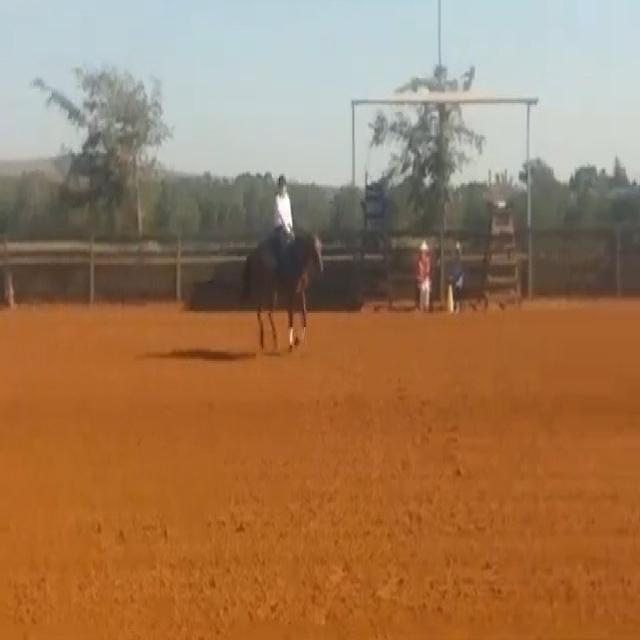horse: (240, 226, 326, 354)
